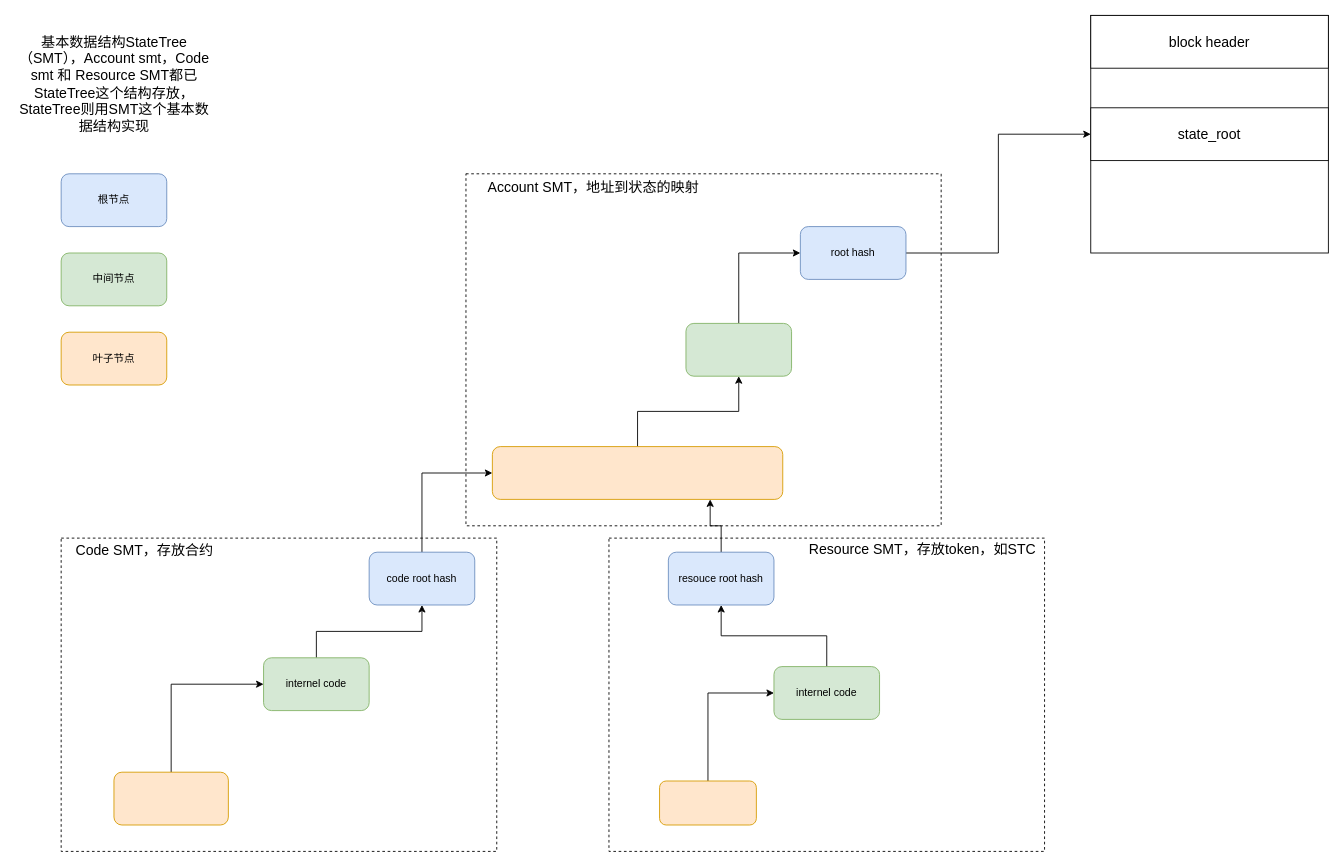
The diagram is 1344 pixels wide and 867 high, and some of its shapes have lost their labels. Each missing label, with the centre of its shape:
"hash value account address->code root hash, resource root hash" goes at point (637, 472).
"hash value module name -> value" goes at point (170, 798).
"hash value struct tag -> value" goes at point (707, 802).
"internal node" goes at point (738, 349).
